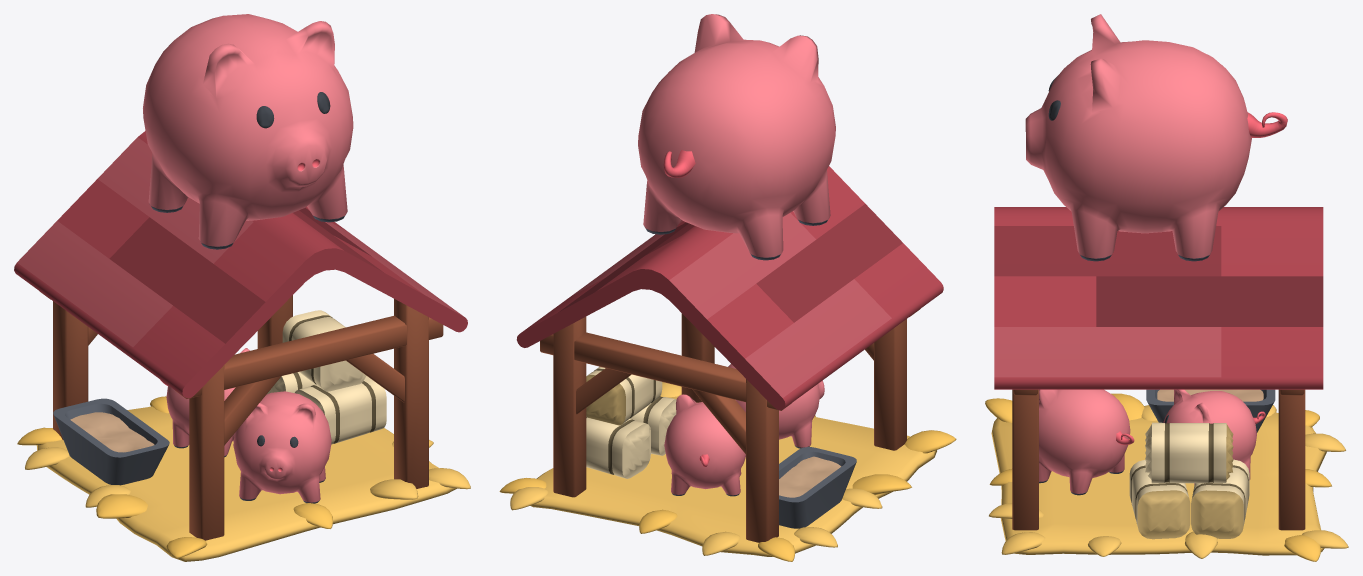
Rendered from Pig House.fbx.
3 views of the same model, side by side, from view 1: azimuth 30°, elevation 25°; view 2: azimuth 150°, elevation 25°; view 3: azimuth 270°, elevation 25° (orthographic). The views are drawn at different scales.
Parts seen in each view (by area): view 1: Pig House.002, Pig House.003, Pig House, Pig House.005, Pig House.004, Pig House.001, Pig House.006; view 2: Pig House.002, Pig House.003, Pig House, Pig House.001, Pig House.006, Pig House.004, Pig House.005; view 3: Pig House.002, Pig House.003, Pig House, Pig House.001, Pig House.005, Pig House.006, Pig House.004.
Boxes of the visible parts, <box> form: Pig House.002: <box>14,131,467,540</box>; Pig House.003: <box>143,14,353,249</box>; Pig House: <box>17,396,470,561</box>; Pig House.005: <box>233,391,331,503</box>; Pig House.004: <box>53,398,169,485</box>; Pig House.001: <box>267,310,386,444</box>; Pig House.006: <box>160,348,249,457</box>; Pig House.002: <box>516,166,943,542</box>; Pig House.003: <box>638,14,835,260</box>; Pig House: <box>499,382,956,561</box>; Pig House.001: <box>586,366,676,478</box>; Pig House.006: <box>664,394,745,496</box>; Pig House.004: <box>779,447,856,528</box>; Pig House.005: <box>728,364,824,448</box>; Pig House.002: <box>994,207,1323,530</box>; Pig House.003: <box>1025,14,1287,261</box>; Pig House: <box>985,393,1348,561</box>; Pig House.001: <box>1129,422,1249,539</box>; Pig House.005: <box>1039,389,1134,495</box>; Pig House.006: <box>1163,389,1265,484</box>; Pig House.004: <box>1146,389,1275,432</box>.
Size of the model in its own units: 9.54 by 12.7 by 9.22.
